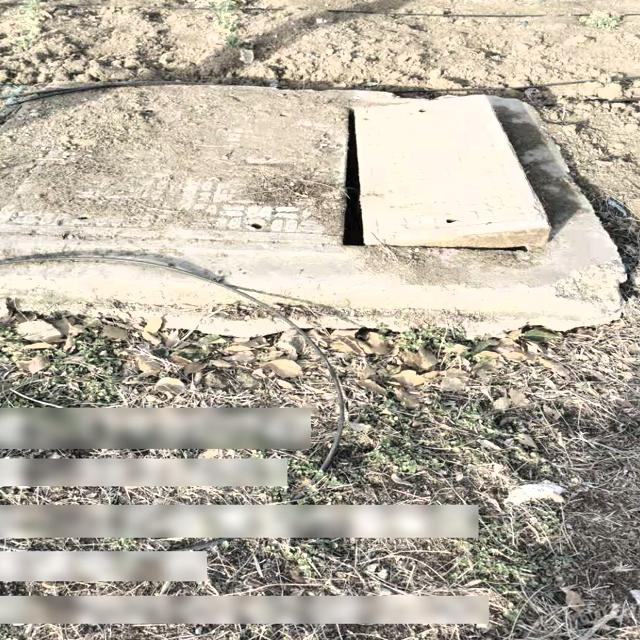uncovered: (0, 87, 551, 256)
